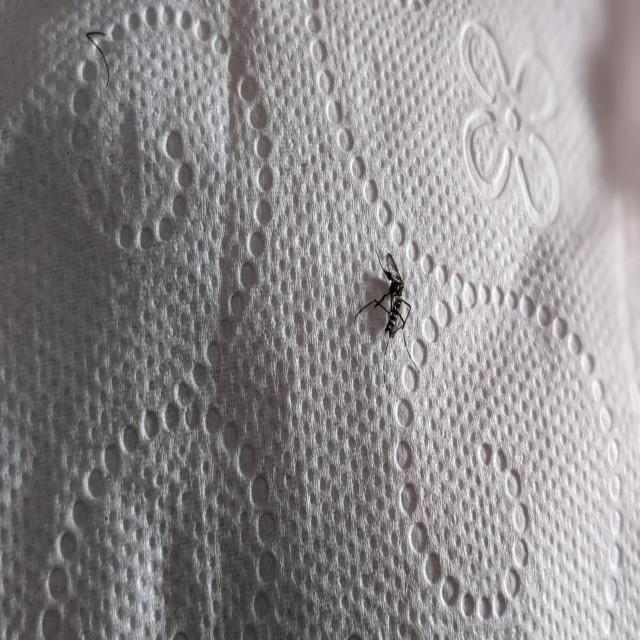albopictus: (350, 246, 420, 380)
